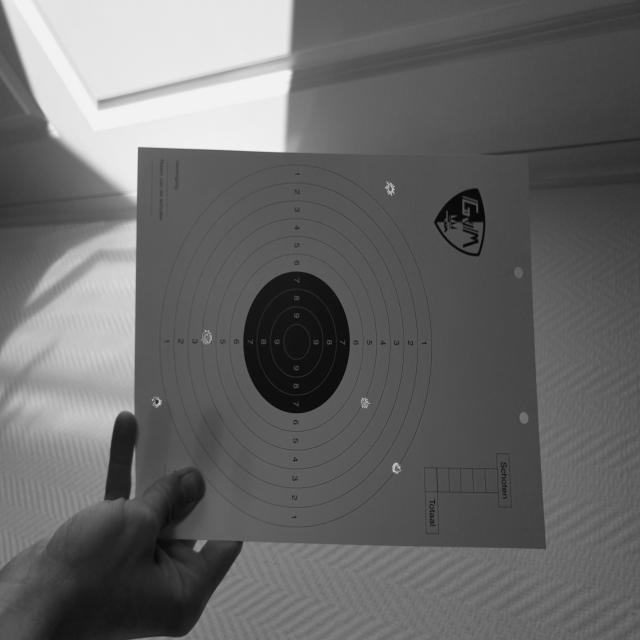0: (385, 181, 395, 196), (152, 396, 162, 408)
1: (392, 462, 401, 474)
4: (202, 330, 212, 344)
5: (361, 396, 370, 409)
Target: (158, 163, 432, 530)
black_contour: (243, 271, 350, 414)
